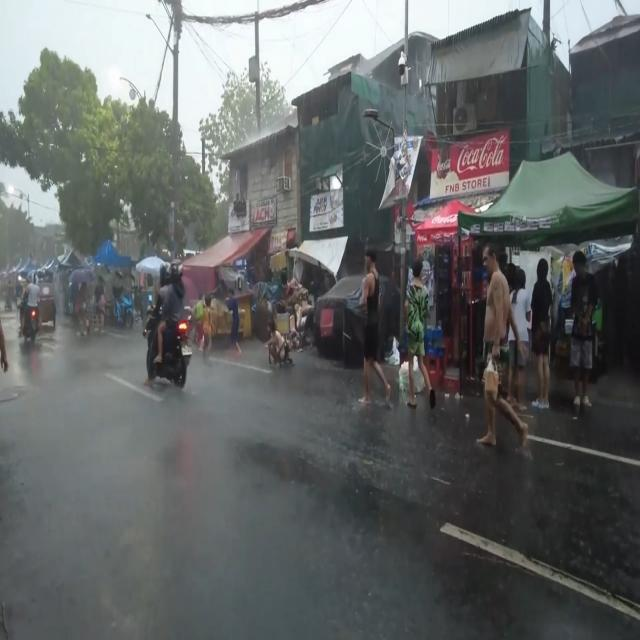full: (159, 261, 171, 287)
half: (170, 259, 184, 281)
